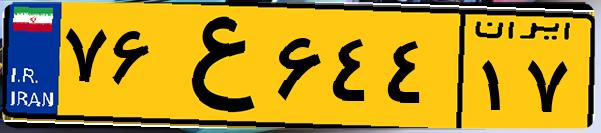1: (475, 38, 525, 113)
4: (385, 28, 445, 110), (330, 28, 385, 110)
6: (270, 28, 330, 110), (110, 28, 158, 98)
7: (57, 26, 110, 100), (525, 38, 570, 115)
ع: (158, 12, 270, 120)
